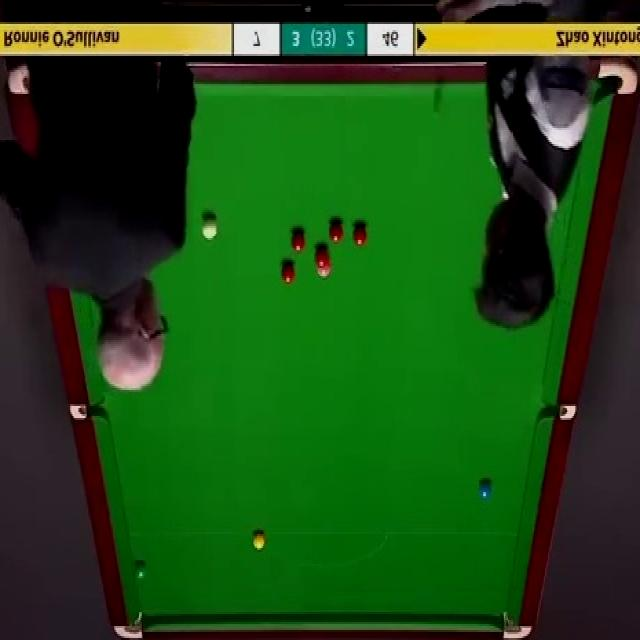pocket: (598, 57, 638, 96), (7, 61, 32, 103), (112, 610, 144, 640), (502, 608, 533, 638), (70, 400, 104, 419), (542, 399, 576, 418)
